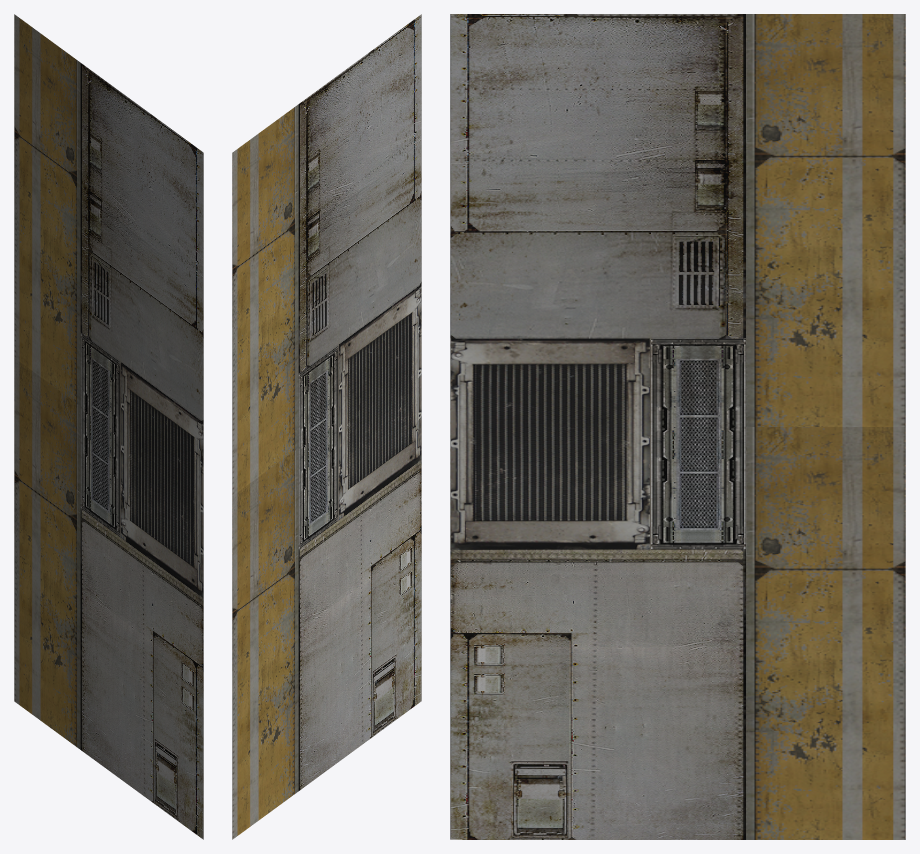
Rendered from Wall_J_Giant10mts_04.fbx.
The picture shows the model from 3 angles, left to right: view 1: azimuth 30°, elevation 25°; view 2: azimuth 150°, elevation 25°; view 3: azimuth 270°, elevation 25°; orthographic projection. The views are drawn at different scales.
Parts seen in each view (by area): view 1: Wall_J_Giant10mts_04; view 2: Wall_J_Giant10mts_04; view 3: Wall_J_Giant10mts_04.
Boxes of the visible parts, x1,y1,x2,y2 form: Wall_J_Giant10mts_04: (14,14,203,839); Wall_J_Giant10mts_04: (232,14,421,839); Wall_J_Giant10mts_04: (450,14,905,839).
Size of the model in its own units: 0.00195 by 2000 by 1000.
1 material, 1 textured.
